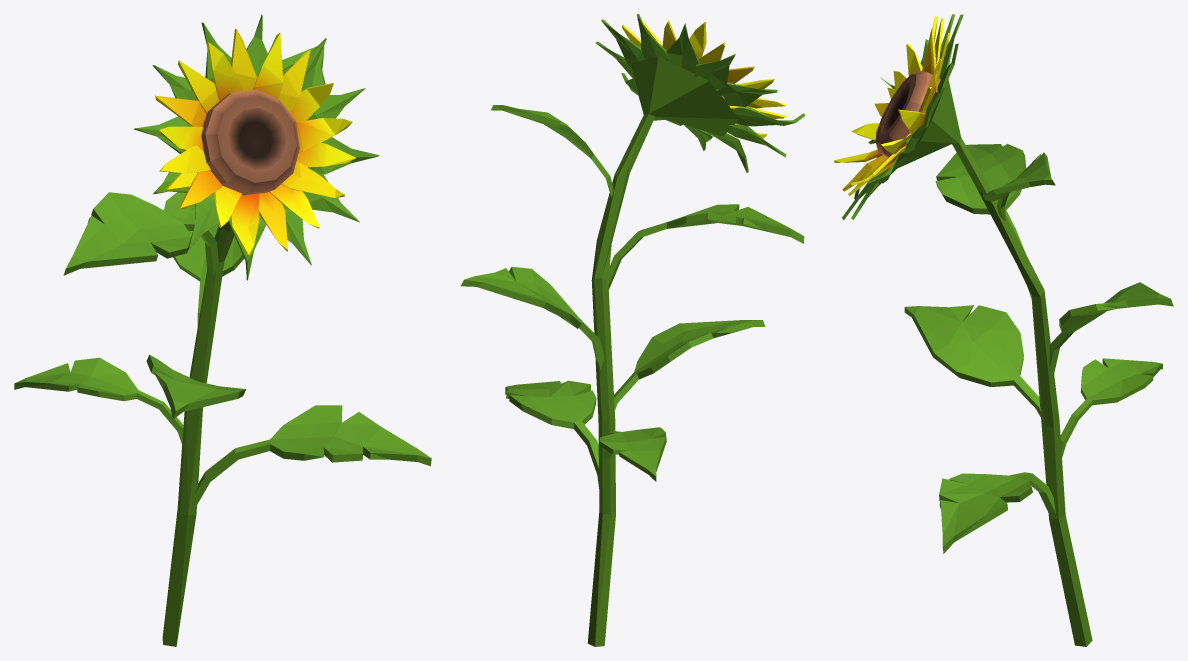
File: Sunflower.obj
The picture shows the model from 3 angles, left to right: view 1: azimuth 30°, elevation 25°; view 2: azimuth 150°, elevation 25°; view 3: azimuth 270°, elevation 25°; orthographic projection. The views are drawn at different scales.
Visible parts, largest first — view 1: PP_Sunflower_04; view 2: PP_Sunflower_04; view 3: PP_Sunflower_04.
Part boxes in pixels (box(x1,y1,x2,y2)): PP_Sunflower_04: box(14, 14, 431, 646); PP_Sunflower_04: box(460, 14, 805, 646); PP_Sunflower_04: box(834, 14, 1173, 646).
Size of the model in its own units: 0.2462 by 0.4477 by 0.224.
1 material, 1 textured.
